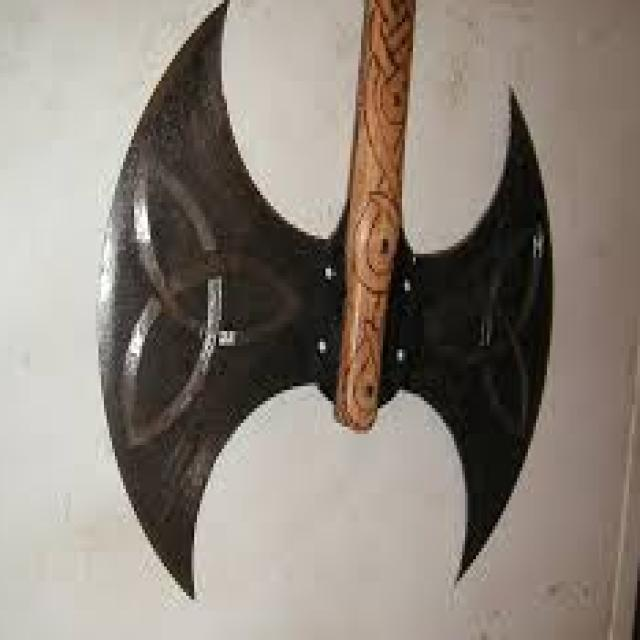Gun: (85, 0, 610, 640)
